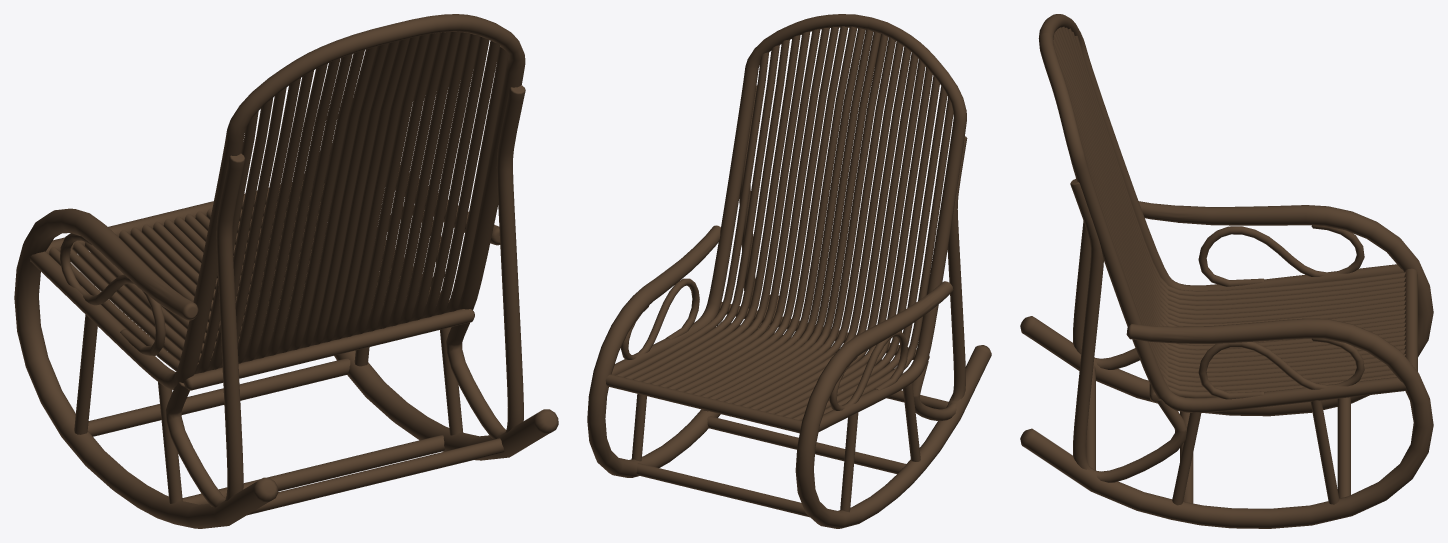
The model's file is rocking_chair_anim.fbx.
The picture shows the model from 3 angles, left to right: view 1: azimuth 30°, elevation 25°; view 2: azimuth 150°, elevation 25°; view 3: azimuth 270°, elevation 25°; orthographic projection. The views are drawn at different scales.
Parts seen in each view (by area): view 1: rocking_chair; view 2: rocking_chair; view 3: rocking_chair.
Boxes of the visible parts, x1=… form: rocking_chair: x1=14, y1=14, x2=558, y2=528; rocking_chair: x1=587, y1=14, x2=991, y2=528; rocking_chair: x1=1020, y1=14, x2=1433, y2=528.
Size of the model in its own units: 1.35 by 2.12 by 1.81.
